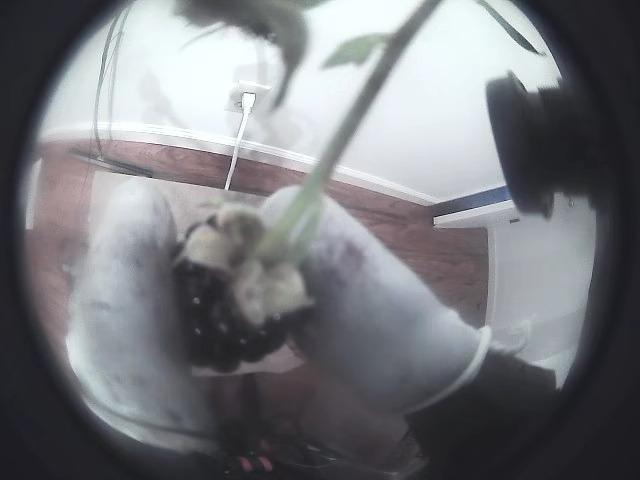berry: (175, 0, 440, 371)
gripper: (297, 197, 489, 418), (67, 178, 215, 451), (261, 187, 298, 223)
lense: (483, 0, 639, 479), (0, 0, 139, 478)
